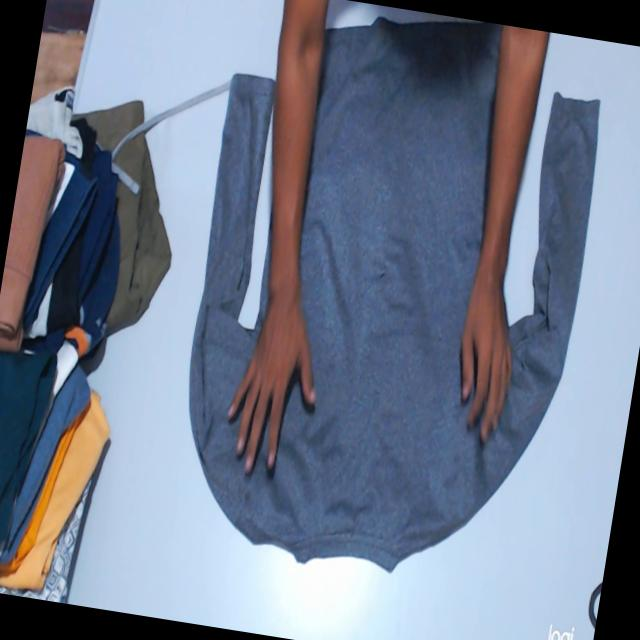new-garment: (189, 18, 599, 569)
